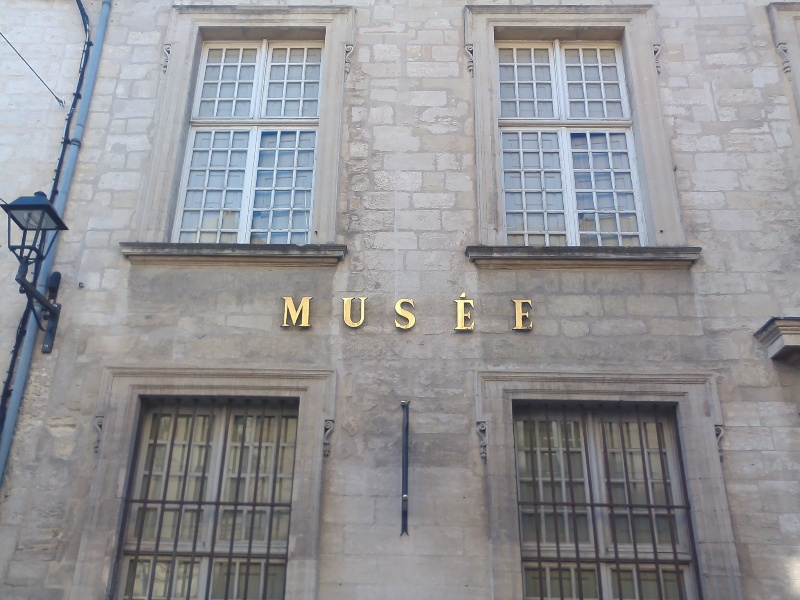text: (289, 288, 304, 333), (305, 288, 320, 333), (321, 288, 336, 333), (337, 288, 352, 333), (353, 288, 368, 333), (369, 288, 384, 333), (385, 288, 400, 333), (401, 288, 416, 333), (417, 288, 432, 333), (433, 288, 448, 333), (449, 288, 464, 333), (465, 288, 480, 333), (481, 288, 496, 333), (497, 288, 512, 333), (513, 288, 528, 333), (279, 288, 288, 333), (529, 288, 537, 333)
